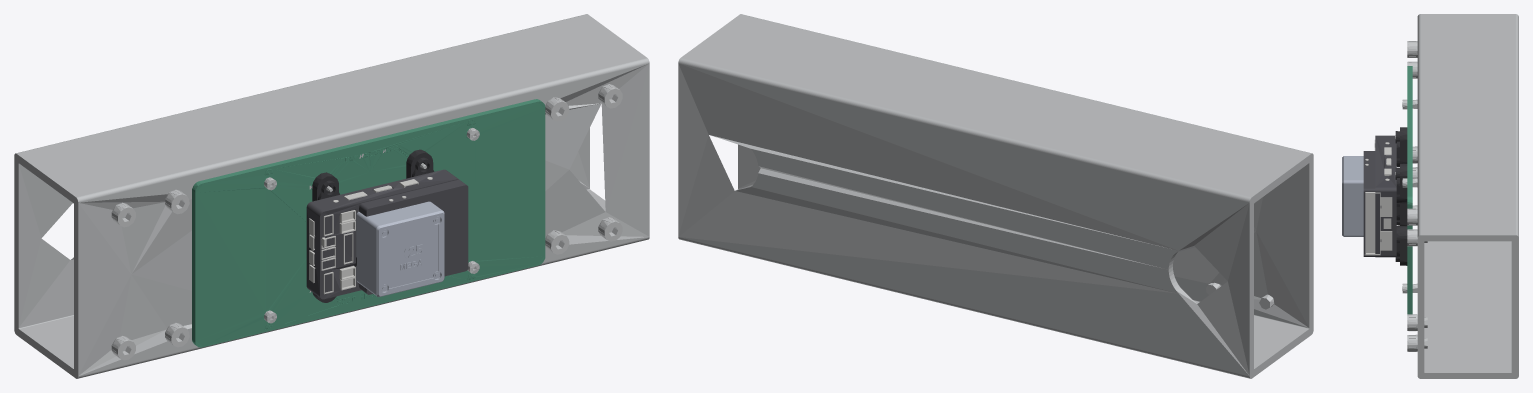
File: assembly.glb
3 views of the same model, side by side, from view 1: azimuth 30°, elevation 25°; view 2: azimuth 150°, elevation 25°; view 3: azimuth 270°, elevation 25° (orthographic). The views are drawn at different scales.
Parts seen in each view (by area): view 1: beam_hollow, pcb, x25_body, x25_core, hardware, x25_ports, x25_mounts; view 2: beam_hollow; view 3: beam_hollow, x25_body, x25_core, hardware, x25_mounts, x25_ports, pcb.
Boxes of the visible parts, left/top/right/bottom form: beam_hollow: left=14, top=14, right=649, bottom=378; pcb: left=192, top=99, right=545, bottom=347; x25_body: left=306, top=169, right=468, bottom=299; x25_core: left=356, top=201, right=444, bottom=297; hardware: left=111, top=84, right=622, bottom=360; x25_ports: left=309, top=177, right=432, bottom=294; x25_mounts: left=312, top=149, right=434, bottom=302; beam_hollow: left=678, top=14, right=1313, bottom=378; beam_hollow: left=1417, top=14, right=1518, bottom=378; x25_body: left=1363, top=135, right=1396, bottom=257; x25_core: left=1342, top=156, right=1363, bottom=236; hardware: left=1395, top=41, right=1427, bottom=351; x25_mounts: left=1395, top=127, right=1407, bottom=265; x25_ports: left=1365, top=140, right=1392, bottom=255; pcb: left=1407, top=66, right=1412, bottom=314.
Bounding box in the file's own units: 310 × 94 × 105.
